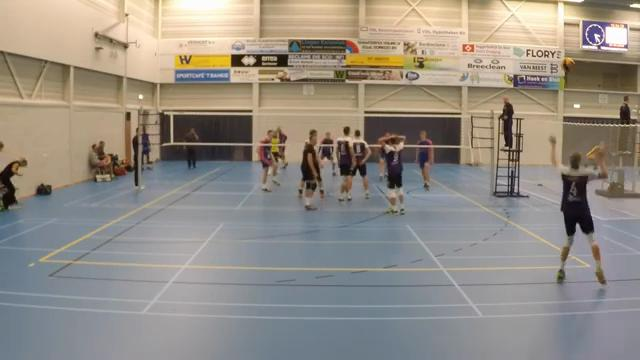battuta: (544, 132, 614, 290)
